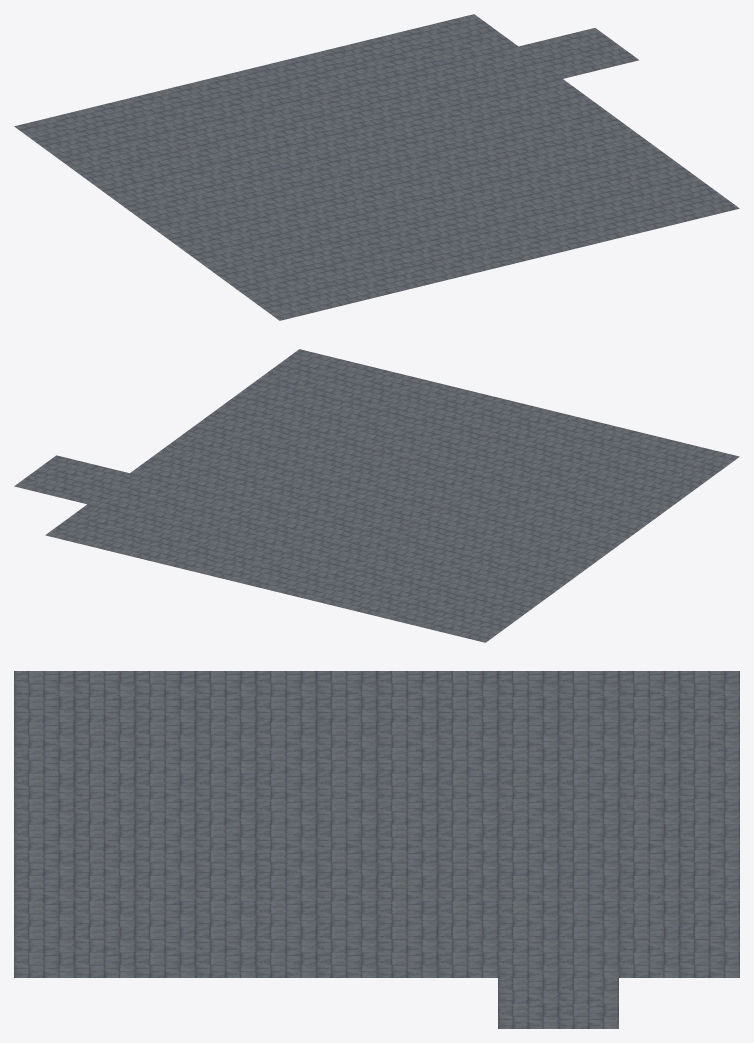
The model's file is Ground.fbx.
The picture shows the model from 3 angles, top to bottom: view 1: azimuth 30°, elevation 25°; view 2: azimuth 150°, elevation 25°; view 3: azimuth 270°, elevation 25°; orthographic projection. The views are drawn at different scales.
Visible parts, largest first — view 1: Castle_Ground_X_Bright_8x8__33__2, Castle_Ground_X_Bright_8x8__31__3, Castle_Ground_X_Bright_8x8__32__4, Castle_Ground_X_Bright_8x8__28__5, Castle_Ground_X_Bright_8x8__29__3, Castle_Ground_X_Bright_8x8__30__4, Castle_Ground_X_Bright_8x8__32_, Castle_Ground_X_Bright_8x8__31__1, Castle_Ground_X_Bright_8x8__28__2, Castle_Ground_X_Bright_8x8__31__2, Castle_Ground_X_Bright_8x8__32__3, Castle_Ground_X_Bright_8x8__31__4 (+25 smaller); view 2: Castle_Ground_X_Bright_8x8__32_, Castle_Ground_X_Bright_8x8__28__2, Castle_Ground_X_Bright_8x8__31__3, Castle_Ground_X_Bright_8x8__33__5, Castle_Ground_X_Bright_8x8__29_, Castle_Ground_X_Bright_8x8__31_, Castle_Ground_X_Bright_8x8__29__1, Castle_Ground_X_Bright_8x8__33__1, Castle_Ground_X_Bright_8x8__29__3, Castle_Ground_X_Bright_8x8__30__3, Castle_Ground_X_Bright_8x8__29__4, Castle_Ground_X_Bright_8x8__30__4 (+25 smaller); view 3: Castle_Ground_X_Bright_8x8__28_, Castle_Ground_X_Bright_8x8__29_, Castle_Ground_X_Bright_8x8__31_, Castle_Ground_X_Bright_8x8__32_, Castle_Ground_X_Bright_8x8__33_, Castle_Ground_X_Bright_8x8__28__1, Castle_Ground_X_Bright_8x8__29__1, Castle_Ground_X_Bright_8x8__31__1, Castle_Ground_X_Bright_8x8__32__1, Castle_Ground_X_Bright_8x8__33__1, Castle_Ground_X_Bright_8x8__28__2, Castle_Ground_X_Bright_8x8__29__2 (+25 smaller).
Boxes of the visible parts, x1,y1,x2,y2 form: Castle_Ground_X_Bright_8x8__33__2: (268, 218, 388, 269); Castle_Ground_X_Bright_8x8__31__3: (389, 232, 509, 283); Castle_Ground_X_Bright_8x8__32__4: (244, 51, 364, 102); Castle_Ground_X_Bright_8x8__28__5: (365, 65, 485, 116); Castle_Ground_X_Bright_8x8__29__3: (619, 176, 739, 227); Castle_Ground_X_Bright_8x8__30__4: (14, 107, 134, 158); Castle_Ground_X_Bright_8x8__32_: (333, 116, 453, 167); Castle_Ground_X_Bright_8x8__31__1: (300, 167, 420, 218); Castle_Ground_X_Bright_8x8__28__2: (498, 162, 618, 213); Castle_Ground_X_Bright_8x8__31__2: (345, 200, 464, 250); Castle_Ground_X_Bright_8x8__32__3: (466, 213, 585, 264); Castle_Ground_X_Bright_8x8__31__4: (168, 70, 287, 121); Castle_Ground_X_Bright_8x8__32_: (277, 478, 391, 526); Castle_Ground_X_Bright_8x8__28__2: (288, 398, 403, 446); Castle_Ground_X_Bright_8x8__31__3: (477, 403, 592, 451); Castle_Ground_X_Bright_8x8__33__5: (381, 545, 496, 593); Castle_Ground_X_Bright_8x8__29_: (130, 442, 245, 490); Castle_Ground_X_Bright_8x8__31_: (350, 496, 465, 544); Castle_Ground_X_Bright_8x8__29__1: (172, 411, 287, 459); Castle_Ground_X_Bright_8x8__33__1: (466, 483, 581, 531); Castle_Ground_X_Bright_8x8__29__3: (257, 349, 372, 397); Castle_Ground_X_Bright_8x8__30__3: (624, 438, 739, 487); Castle_Ground_X_Bright_8x8__29__4: (45, 504, 160, 553); Castle_Ground_X_Bright_8x8__30__4: (412, 594, 527, 642); Castle_Ground_X_Bright_8x8__28_: (377, 875, 497, 926); Castle_Ground_X_Bright_8x8__29_: (377, 926, 497, 977); Castle_Ground_X_Bright_8x8__31_: (377, 773, 497, 824); Castle_Ground_X_Bright_8x8__32_: (377, 824, 497, 875); Castle_Ground_X_Bright_8x8__33_: (377, 722, 497, 773); Castle_Ground_X_Bright_8x8__28__1: (256, 875, 376, 926); Castle_Ground_X_Bright_8x8__29__1: (256, 926, 376, 977); Castle_Ground_X_Bright_8x8__31__1: (256, 773, 376, 824); Castle_Ground_X_Bright_8x8__32__1: (256, 824, 376, 875); Castle_Ground_X_Bright_8x8__33__1: (256, 722, 376, 773); Castle_Ground_X_Bright_8x8__28__2: (135, 875, 255, 926); Castle_Ground_X_Bright_8x8__29__2: (135, 926, 255, 977).
Bounding box in the file's own units: 4200 × 8.05e-05 × 3600.
1 material, 1 textured.
